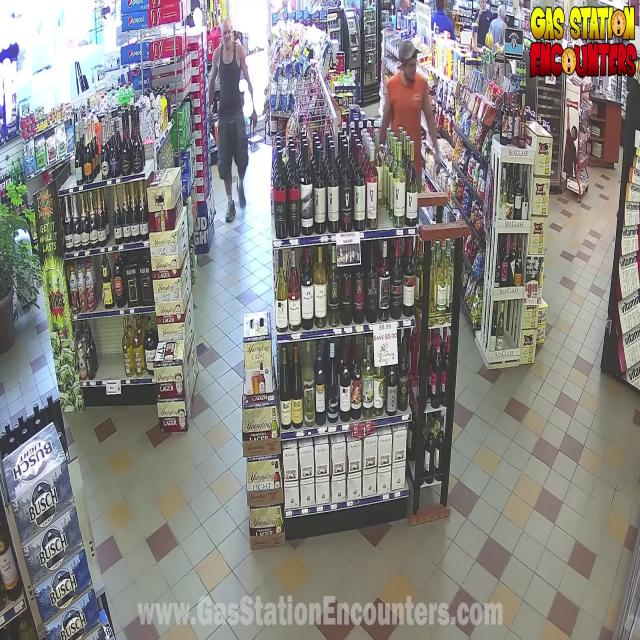normal: (200, 14, 260, 234), (376, 14, 441, 167)
